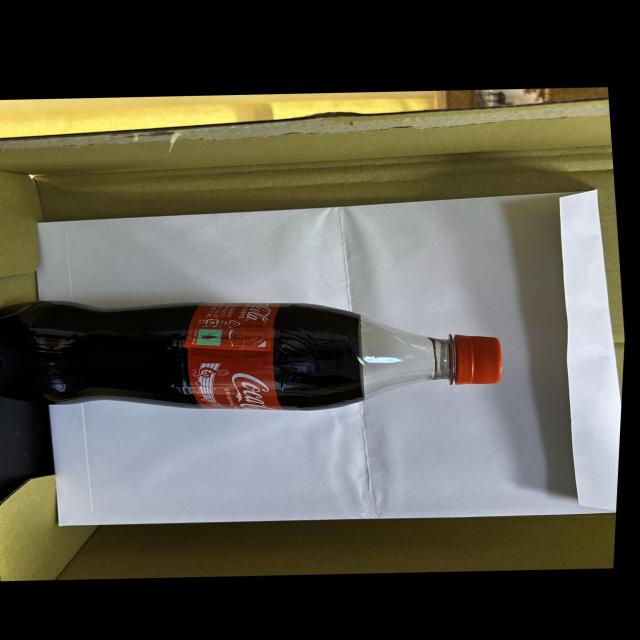high: (0, 301, 501, 418)
